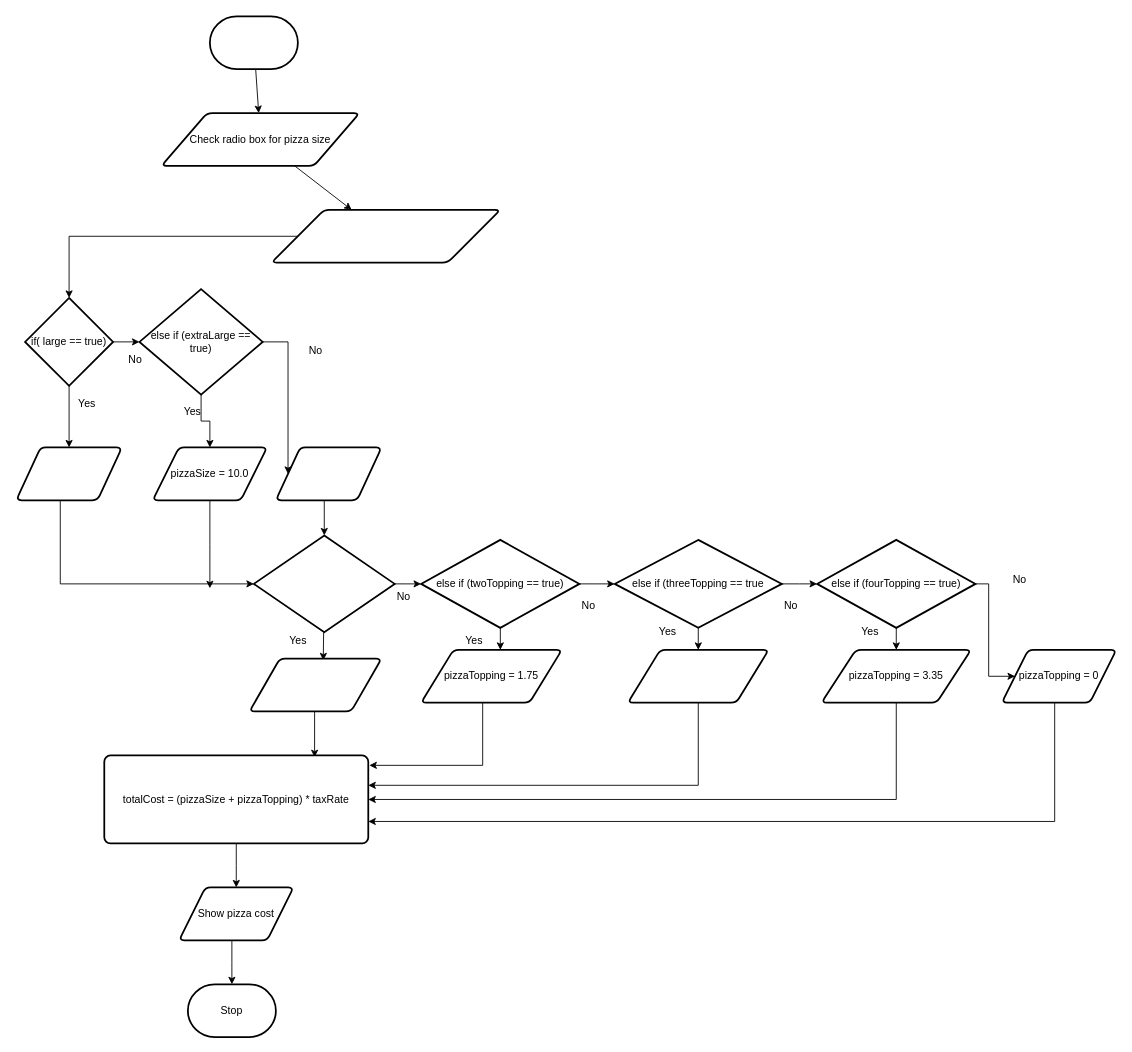
Image size: 1132x1052. Some labels were removed from this diagram. Each missing label, with the centre of its shape:
"Check radio box fro # of toppings" goes at point (385, 236).
"if (oneTopping == true)" goes at point (324, 583).
"pizzaSize = 0" goes at point (328, 473).
"pizzaSize = 6.0" goes at point (68, 473).
"pizzaTopping = 1.00" goes at point (315, 684).
"pizzaTopping = 2.50" goes at point (698, 676).
"Start" goes at point (253, 42).
